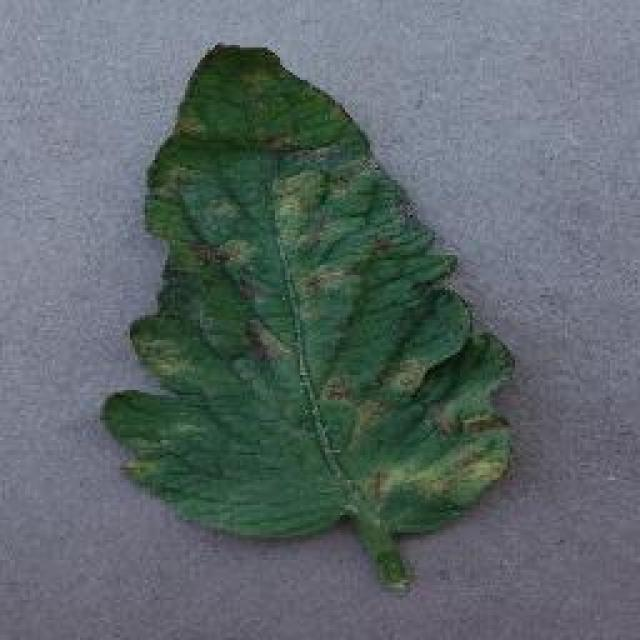Tomato mold leaf: (106, 42, 514, 546)
